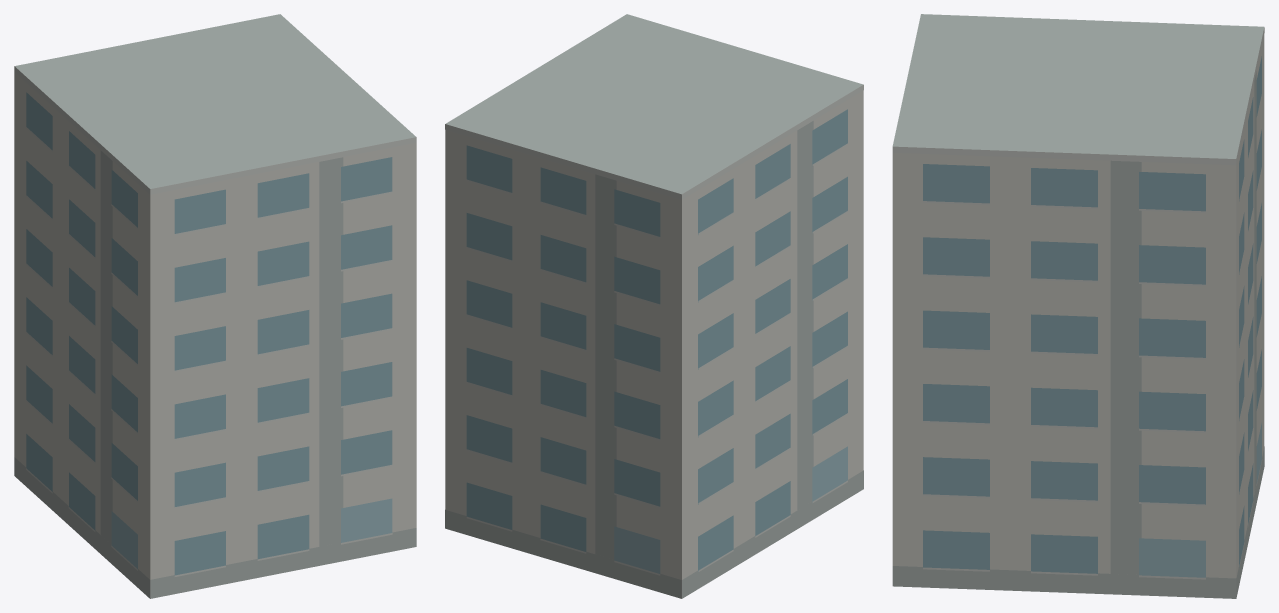
Rendered from survey-upis-32869552.glb.
The picture shows the model from 3 angles, left to right: view 1: azimuth 30°, elevation 25°; view 2: azimuth 150°, elevation 25°; view 3: azimuth 270°, elevation 25°; orthographic projection. The views are drawn at different scales.
Visible parts, largest first — view 1: survey-upis-32869552.tmp; view 2: survey-upis-32869552.tmp; view 3: survey-upis-32869552.tmp.
Part boxes in pixels (box(x1,y1,x2,y2)): survey-upis-32869552.tmp: box(14, 14, 416, 598); survey-upis-32869552.tmp: box(445, 14, 863, 598); survey-upis-32869552.tmp: box(892, 14, 1264, 598).
Size of the model in its own units: 12.17 by 17.18 by 13.18.
